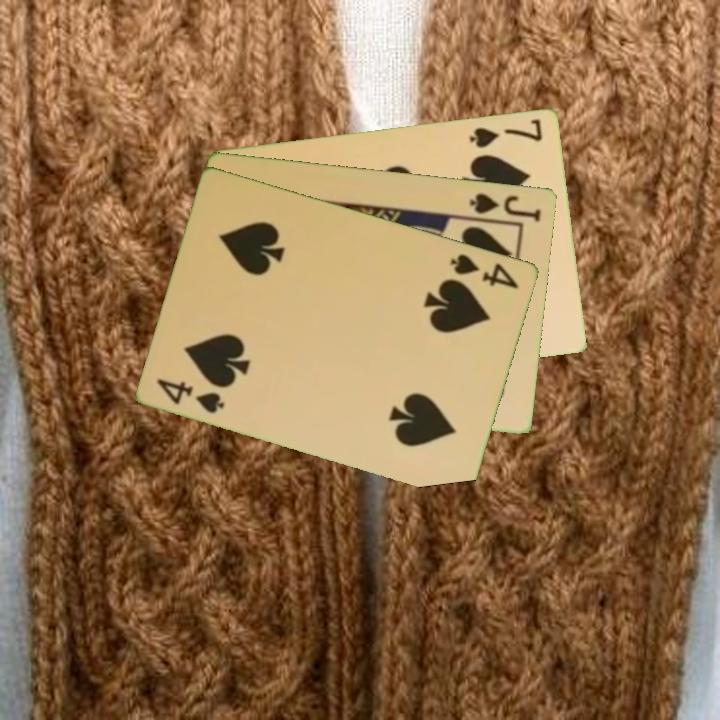4s: (447, 250, 522, 292), (153, 375, 228, 416)
7s: (466, 115, 546, 150)
Js: (466, 189, 544, 224)
